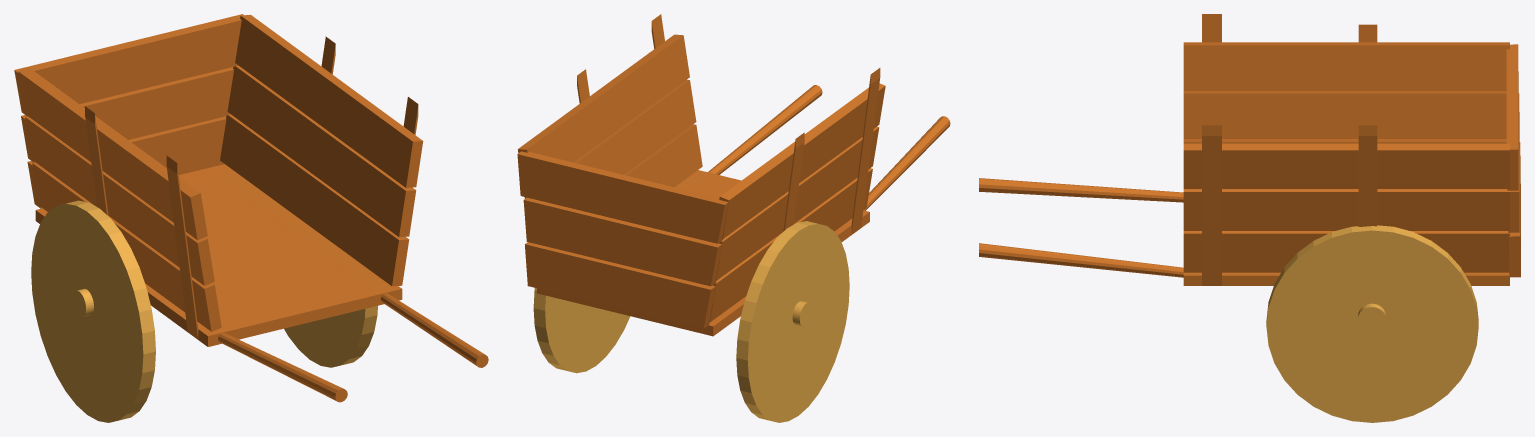
The model's file is ElArabası.fbx.
3 renders of one model, left to right at view 1: azimuth 30°, elevation 25°; view 2: azimuth 150°, elevation 25°; view 3: azimuth 270°, elevation 25°, orthographic. The views are drawn at different scales.
Parts seen in each view (by area): view 1: Plane; view 2: Plane; view 3: Plane.
Boxes of the visible parts, x1=… form: Plane: x1=14, y1=14, x2=488, y2=422; Plane: x1=517, y1=14, x2=950, y2=422; Plane: x1=979, y1=14, x2=1520, y2=422.
Bounding box in the file's own units: 259 × 313 × 510.
